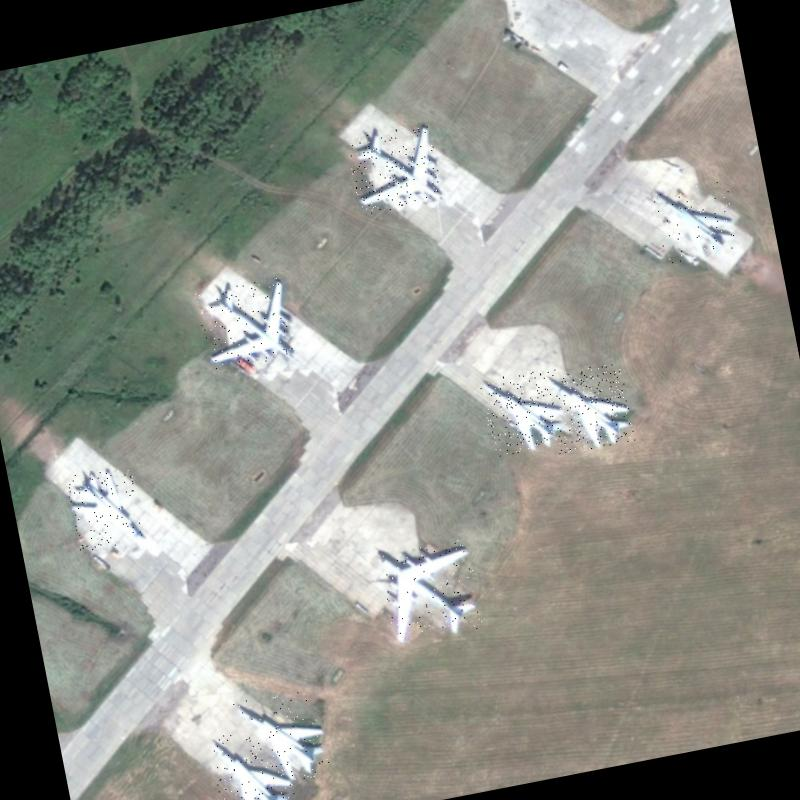A12: (233, 686, 332, 788), (543, 361, 635, 454), (479, 366, 570, 457), (652, 178, 740, 266), (206, 723, 298, 800), (64, 464, 144, 552)
A17: (376, 538, 484, 646), (194, 276, 294, 373), (344, 122, 443, 216)
